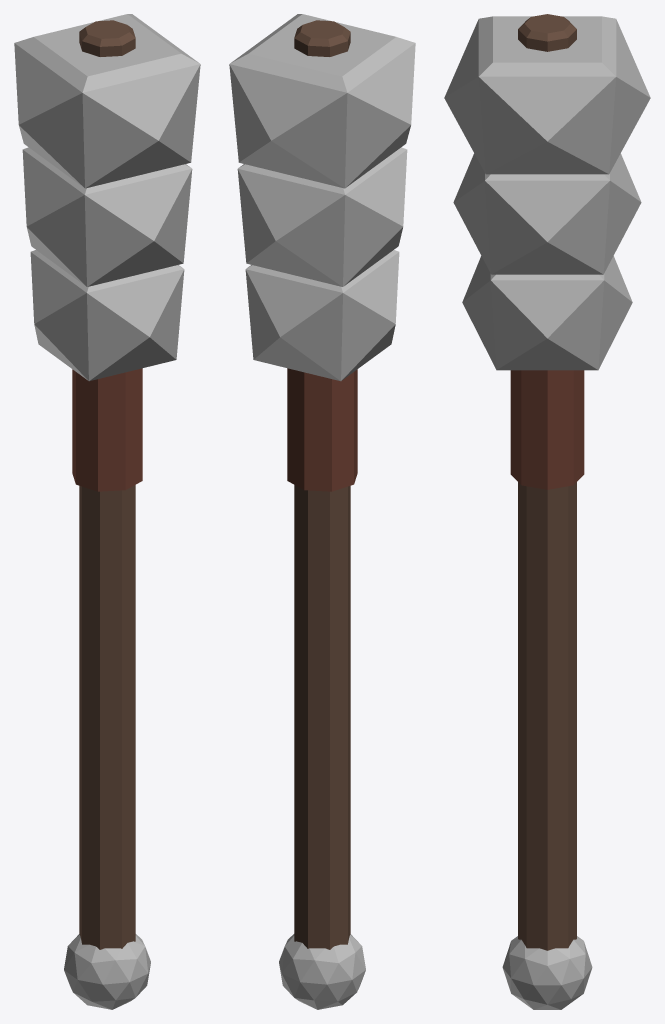
Rendered from Mace.fbx.
3 views of the same model, side by side, from view 1: azimuth 30°, elevation 25°; view 2: azimuth 150°, elevation 25°; view 3: azimuth 270°, elevation 25° (orthographic).
Parts seen in each view (by area): view 1: Mace; view 2: Mace; view 3: Mace.
Boxes of the visible parts, box(x1,y1,x2,y2) form: Mace: box(14, 14, 200, 1009); Mace: box(229, 14, 415, 1009); Mace: box(444, 14, 650, 1009).
Bounding box in the file's own units: 0.1595 × 0.8383 × 0.1595.
